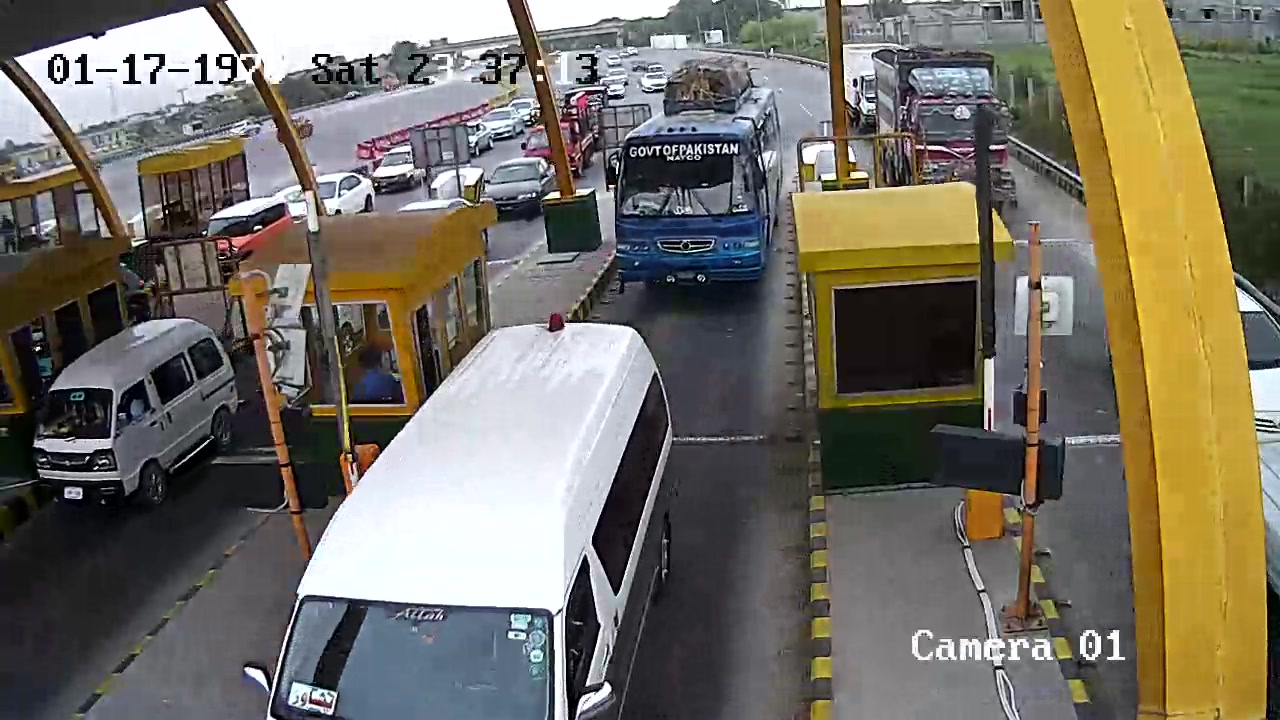F4: (610, 57, 792, 296)
